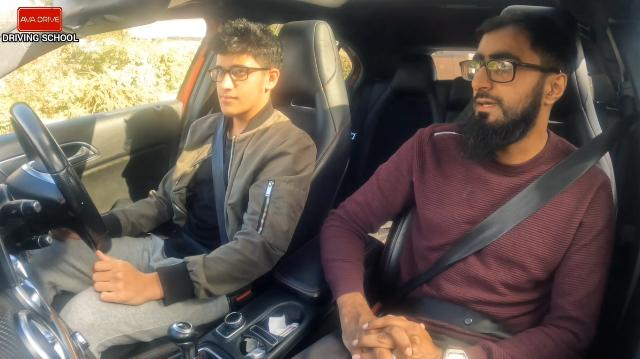seatbelt: (388, 117, 626, 303), (174, 106, 340, 284)
